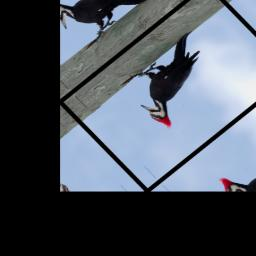Woodpecker: (119, 29, 235, 132)
